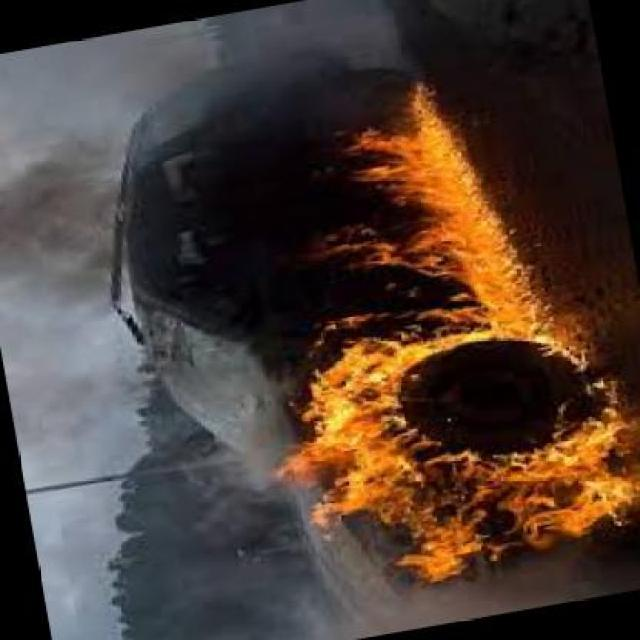Fire: (283, 81, 640, 573)
Smoke: (3, 140, 280, 640), (59, 36, 438, 108)
